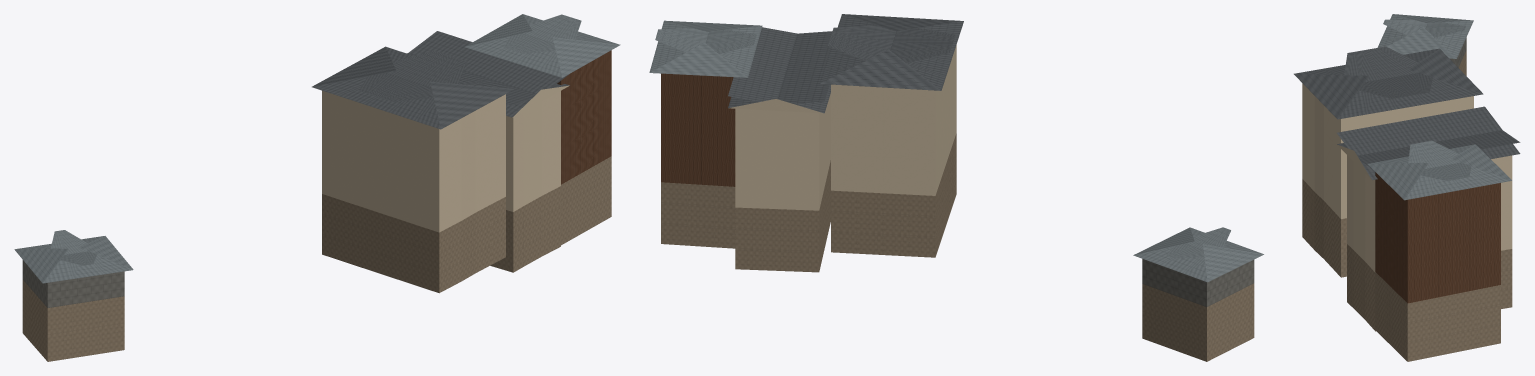
The model's file is bld_c9_25_409.gltf.
3 renders of one model, left to right at view 1: azimuth 30°, elevation 25°; view 2: azimuth 150°, elevation 25°; view 3: azimuth 270°, elevation 25°, orthographic. The views are drawn at different scales.
Visible parts, largest first — view 1: bld_c9_25_409; view 2: bld_c9_25_409; view 3: bld_c9_25_409.
Part boxes in pixels (x1=…): bld_c9_25_409: x1=14, y1=14, x2=620, y2=361; bld_c9_25_409: x1=649, y1=14, x2=1263, y2=361; bld_c9_25_409: x1=1294, y1=14, x2=1520, y2=361.
Bounding box in the file's own units: 51.39 × 16.9 × 17.96.
Materials: 7 (7 with a texture image).
